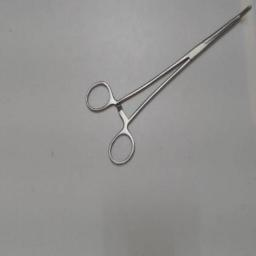Lahey Forceps: (82, 2, 254, 170)
